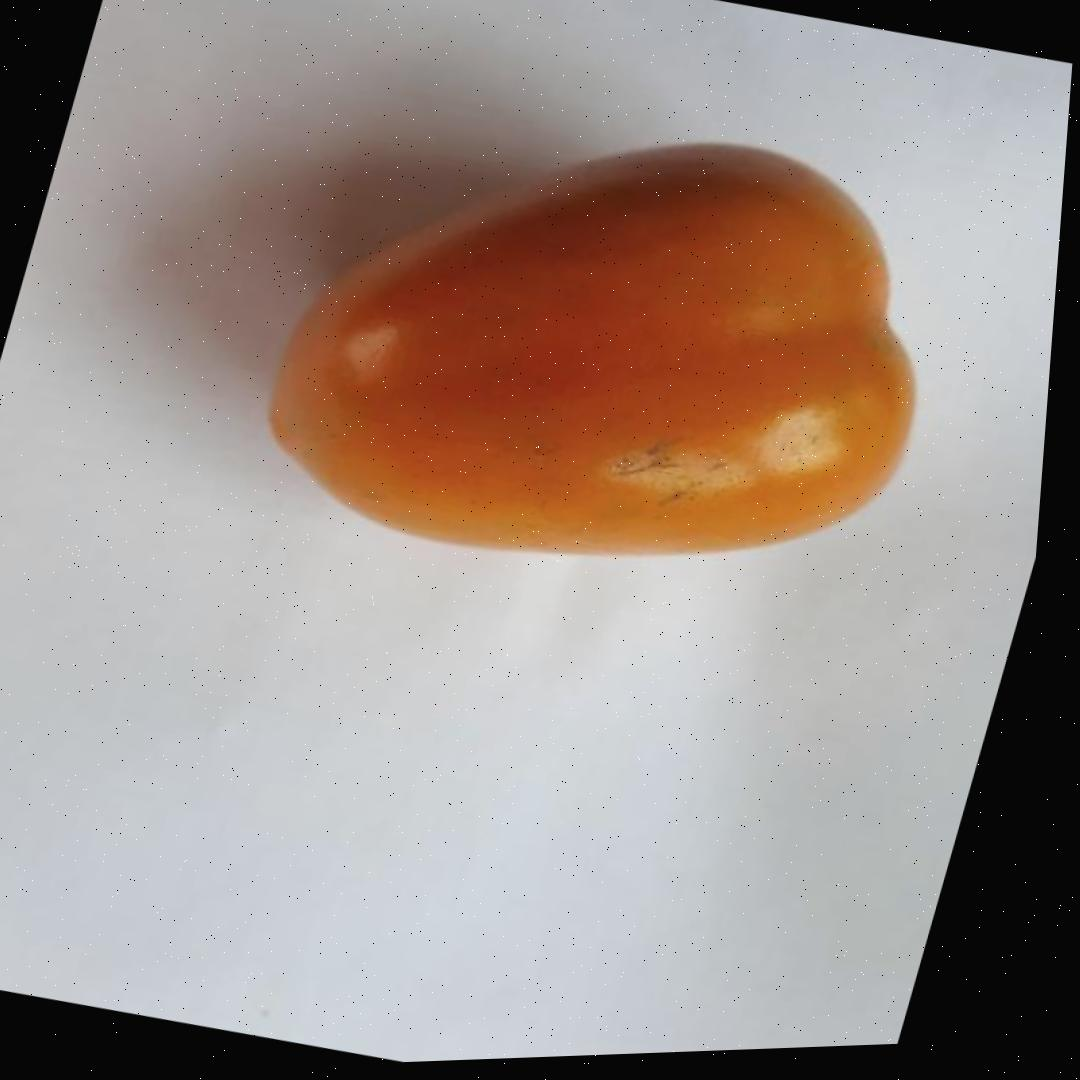setengah_matang: (218, 46, 996, 646)
